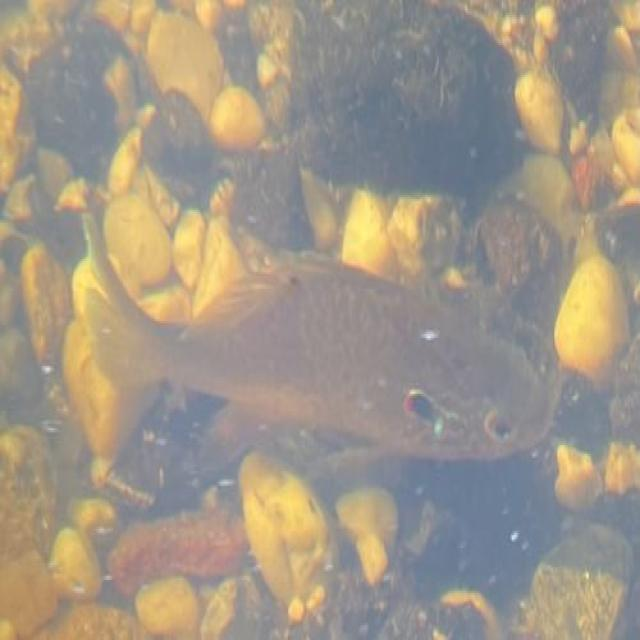Gunes Levregi: (82, 196, 556, 483)
